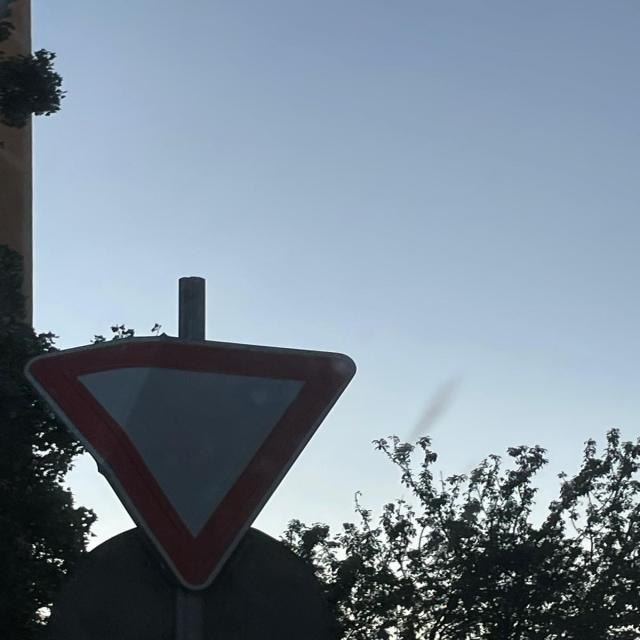prio_give_way: (22, 336, 361, 598)
